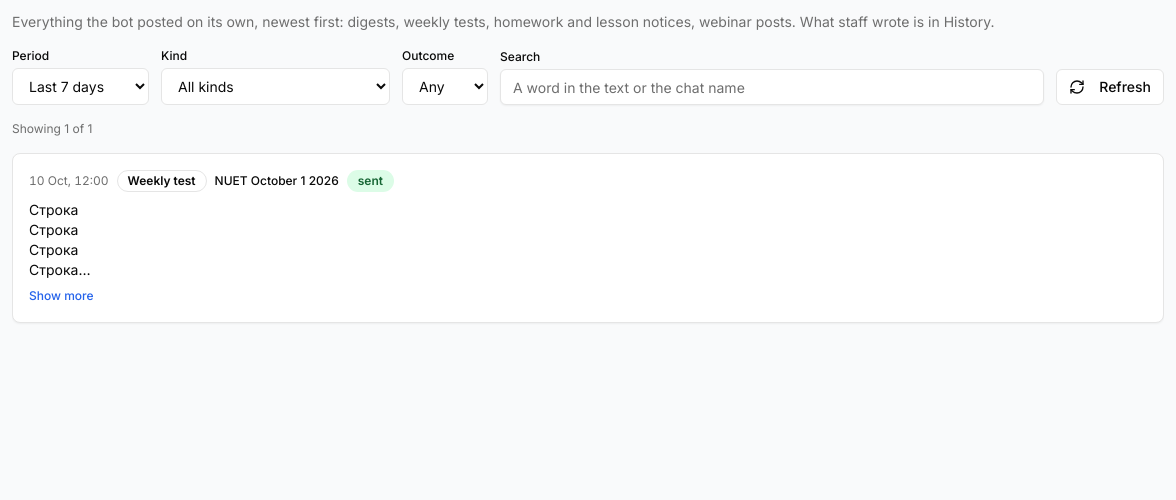
Test: automatic messages tab › a long text is clipped and opens on a click
Click the button "Show more" at (61,296), box [29,288,94,304]
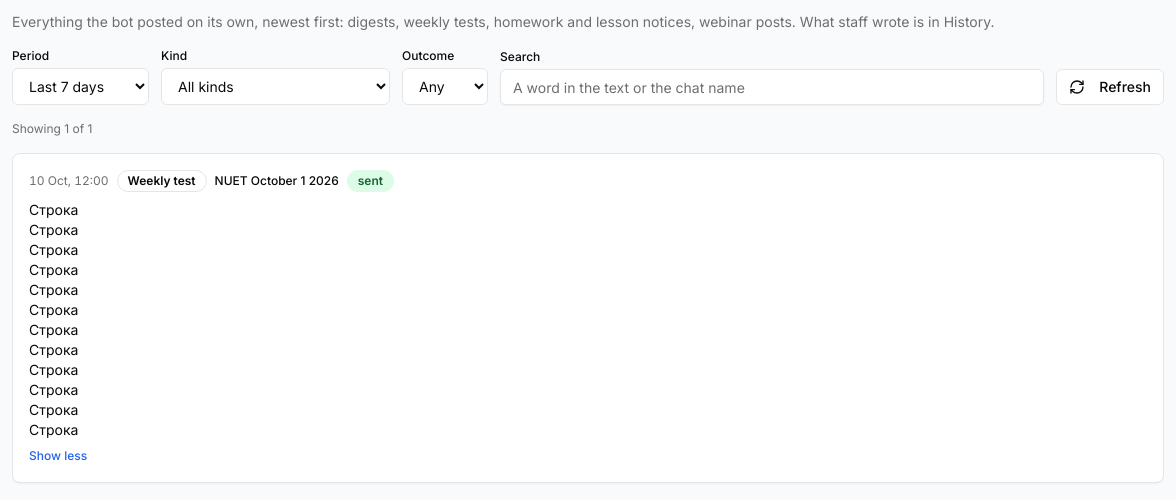
Now the button "Show less" is shown, box [29,448,87,464]
